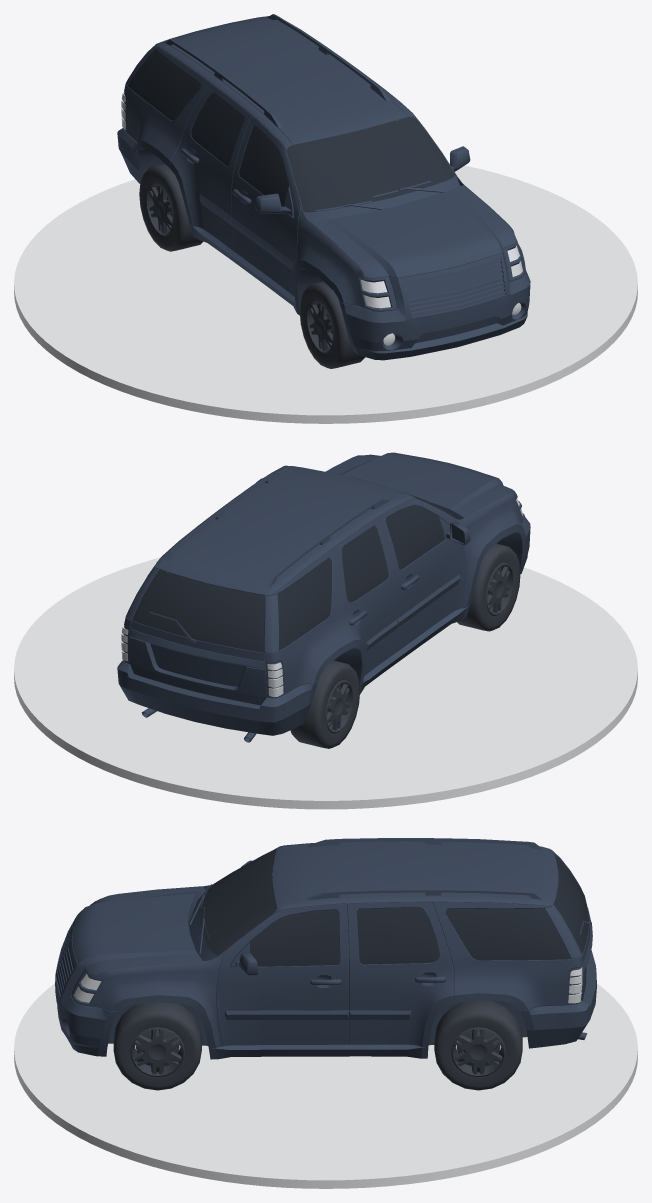
The model's file is suv.glb.
3 views of the same model, one above another, from view 1: azimuth 30°, elevation 25°; view 2: azimuth 150°, elevation 25°; view 3: azimuth 270°, elevation 25° (orthographic).
Visible parts, largest first — view 1: turntable, SUV Body_Body_0, SUV Body_Glass_0, Wheel_E003_Wheel_0, Wheel_E002_Wheel_0, SUV Body_Optics_0; view 2: turntable, SUV Body_Body_0, SUV Body_Glass_0, Wheel_E003_Wheel_0, Wheel_E002_Wheel_0, SUV Body_Optics_0; view 3: SUV Body_Body_0, turntable, SUV Body_Glass_0, Wheel_E001_Wheel_0, Wheel_E_Wheel_0, SUV Body_Optics_0.
Boxes of the visible parts, <box> form: turntable: <box>14,162,637,423</box>; SUV Body_Body_0: <box>117,14,530,360</box>; SUV Body_Glass_0: <box>128,48,455,212</box>; Wheel_E003_Wheel_0: <box>139,163,203,251</box>; Wheel_E002_Wheel_0: <box>299,281,365,368</box>; SUV Body_Optics_0: <box>121,92,522,345</box>; turntable: <box>14,557,637,809</box>; SUV Body_Body_0: <box>117,452,530,742</box>; SUV Body_Glass_0: <box>132,477,455,652</box>; Wheel_E003_Wheel_0: <box>290,660,359,748</box>; Wheel_E002_Wheel_0: <box>457,543,520,631</box>; SUV Body_Optics_0: <box>121,498,522,697</box>; SUV Body_Body_0: <box>55,838,596,1059</box>; turntable: <box>14,983,637,1188</box>; SUV Body_Glass_0: <box>199,849,588,966</box>; Wheel_E001_Wheel_0: <box>434,1000,522,1090</box>; Wheel_E_Wheel_0: <box>113,1002,201,1090</box>; SUV Body_Optics_0: <box>74,967,582,1003</box>.
Size of the model in its own units: 5.31 by 1.81 by 5.31.
